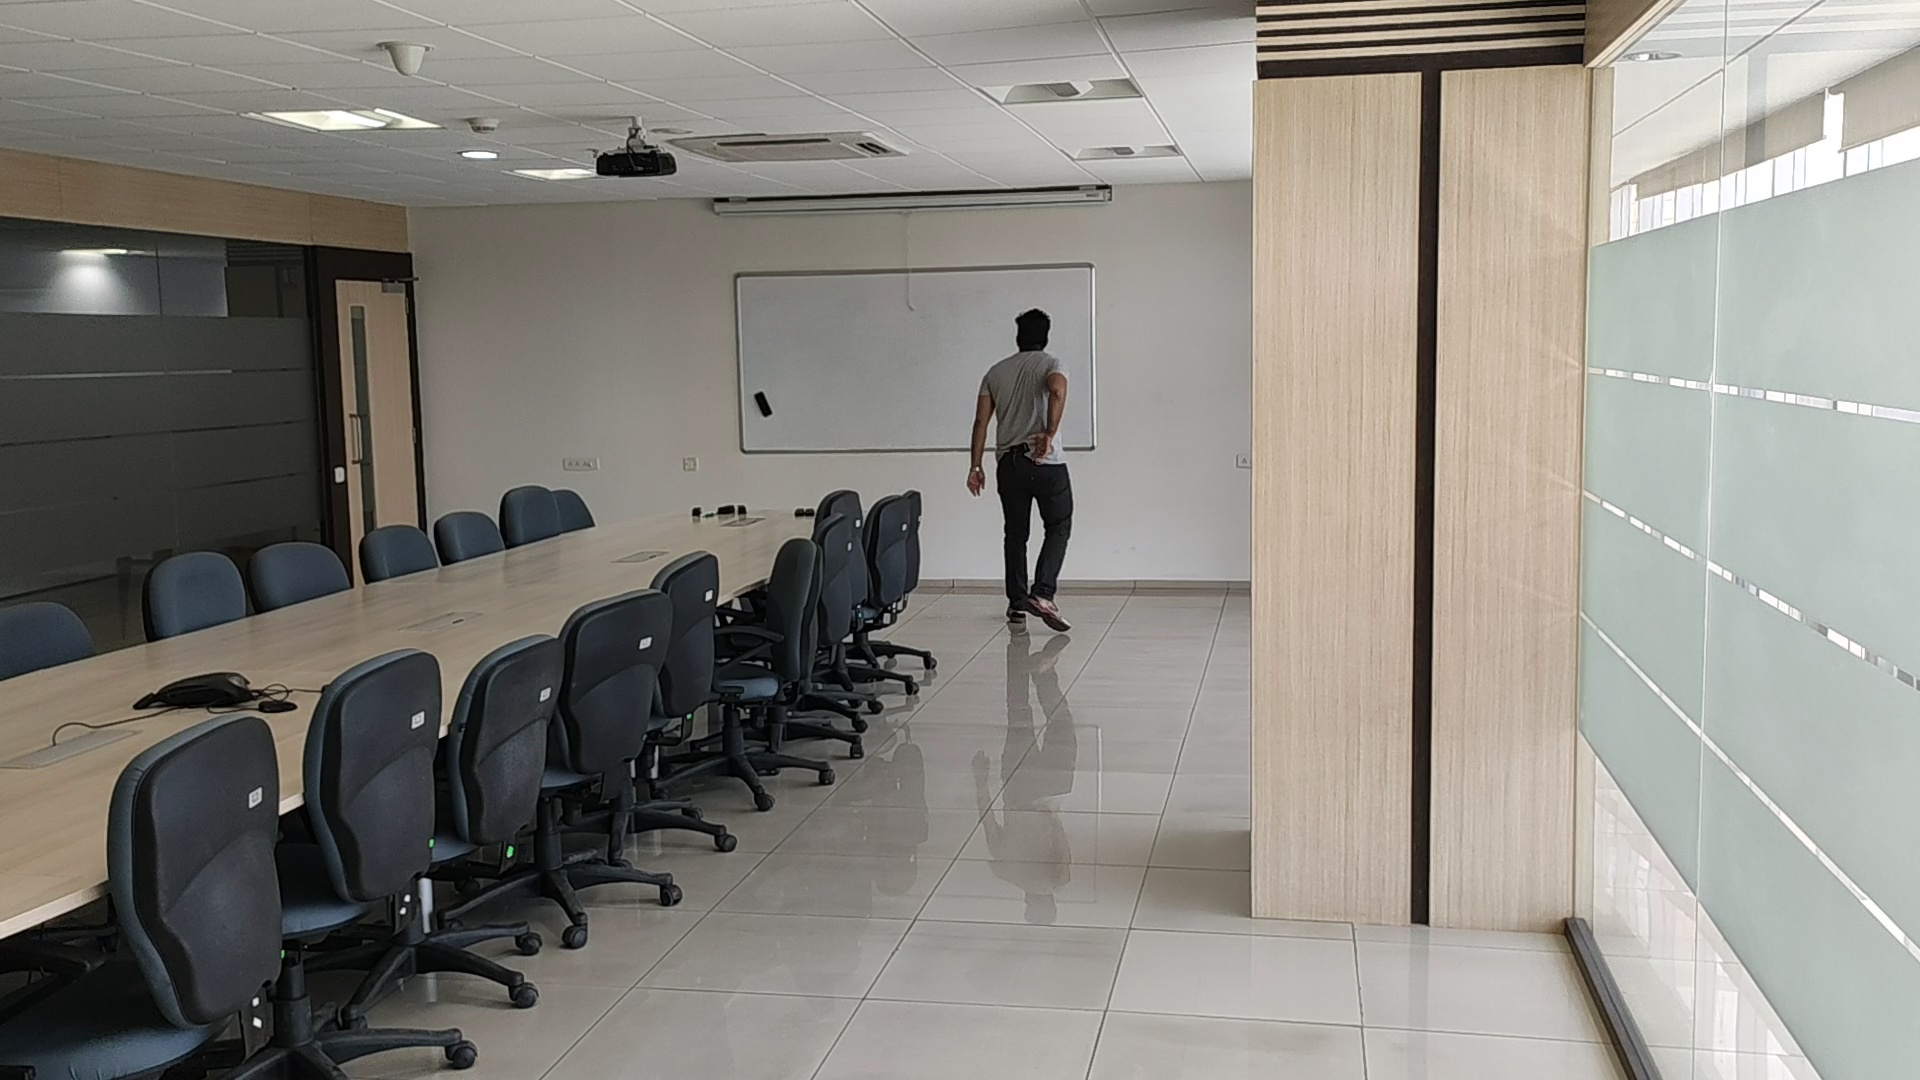gun: (1009, 442, 1030, 454)
